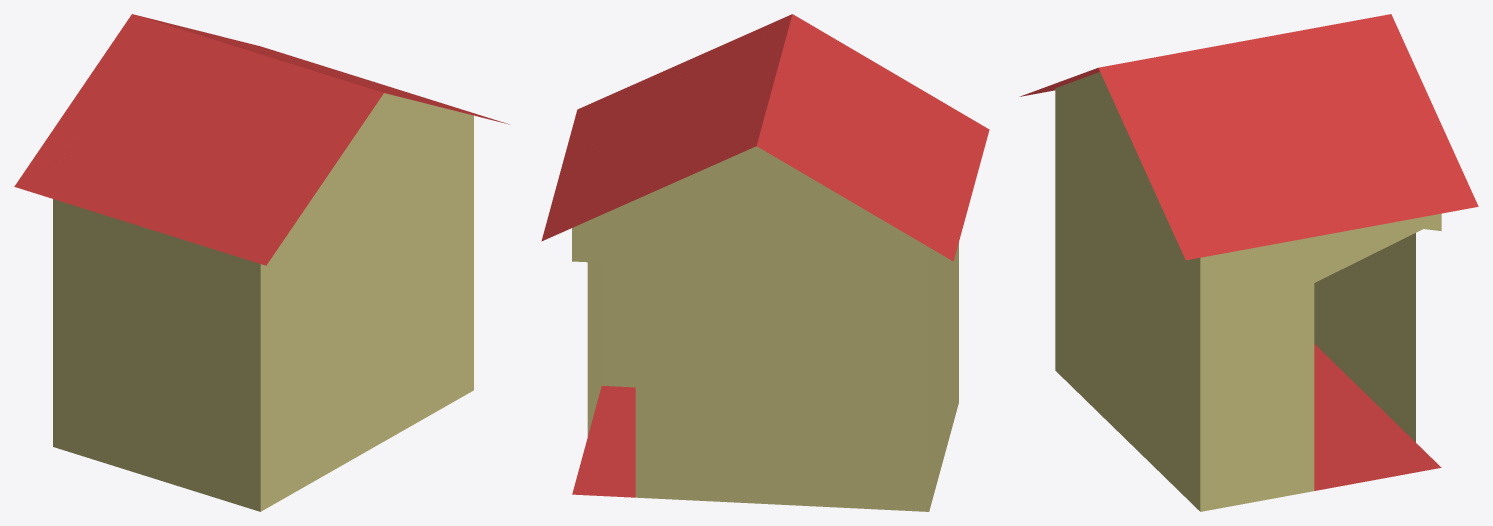
3 views of the same model, side by side, from view 1: azimuth 30°, elevation 25°; view 2: azimuth 150°, elevation 25°; view 3: azimuth 270°, elevation 25° (orthographic).
Size of the model in its own units: 13.67 by 12.26 by 11.01.
